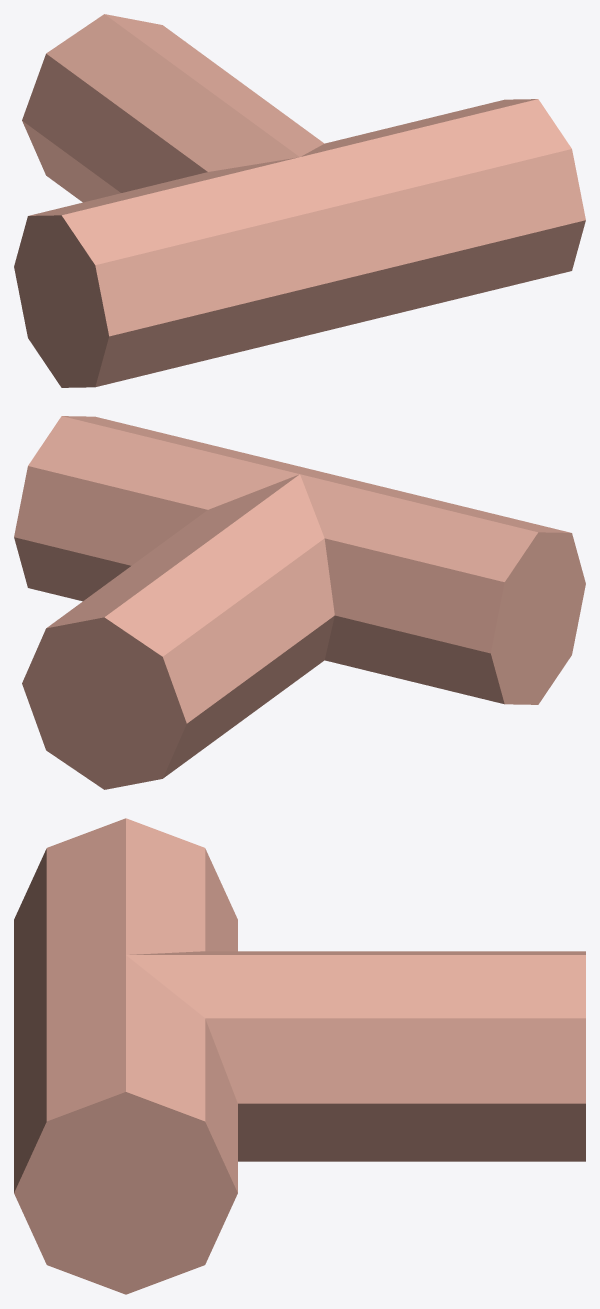
Rendered from trumpet1.fbx.
The picture shows the model from 3 angles, top to bottom: view 1: azimuth 30°, elevation 25°; view 2: azimuth 150°, elevation 25°; view 3: azimuth 270°, elevation 25°; orthographic projection. The views are drawn at different scales.
Parts seen in each view (by area): view 1: Cylinder_17; view 2: Cylinder_17; view 3: Cylinder_17.
Boxes of the visible parts, <box> form: Cylinder_17: <box>14,14,585,387</box>; Cylinder_17: <box>14,416,585,789</box>; Cylinder_17: <box>14,818,585,1294</box>.
Size of the model in its own units: 87.6 by 30.3 by 77.39.
